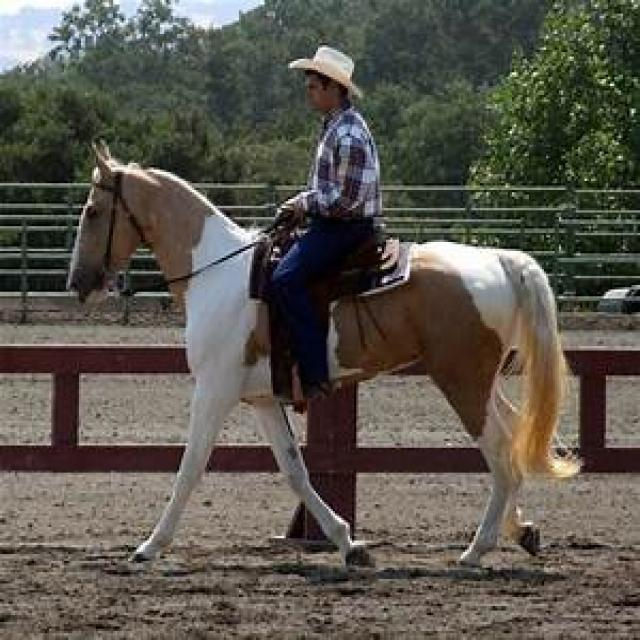horse: (69, 151, 356, 560), (331, 241, 565, 563)
